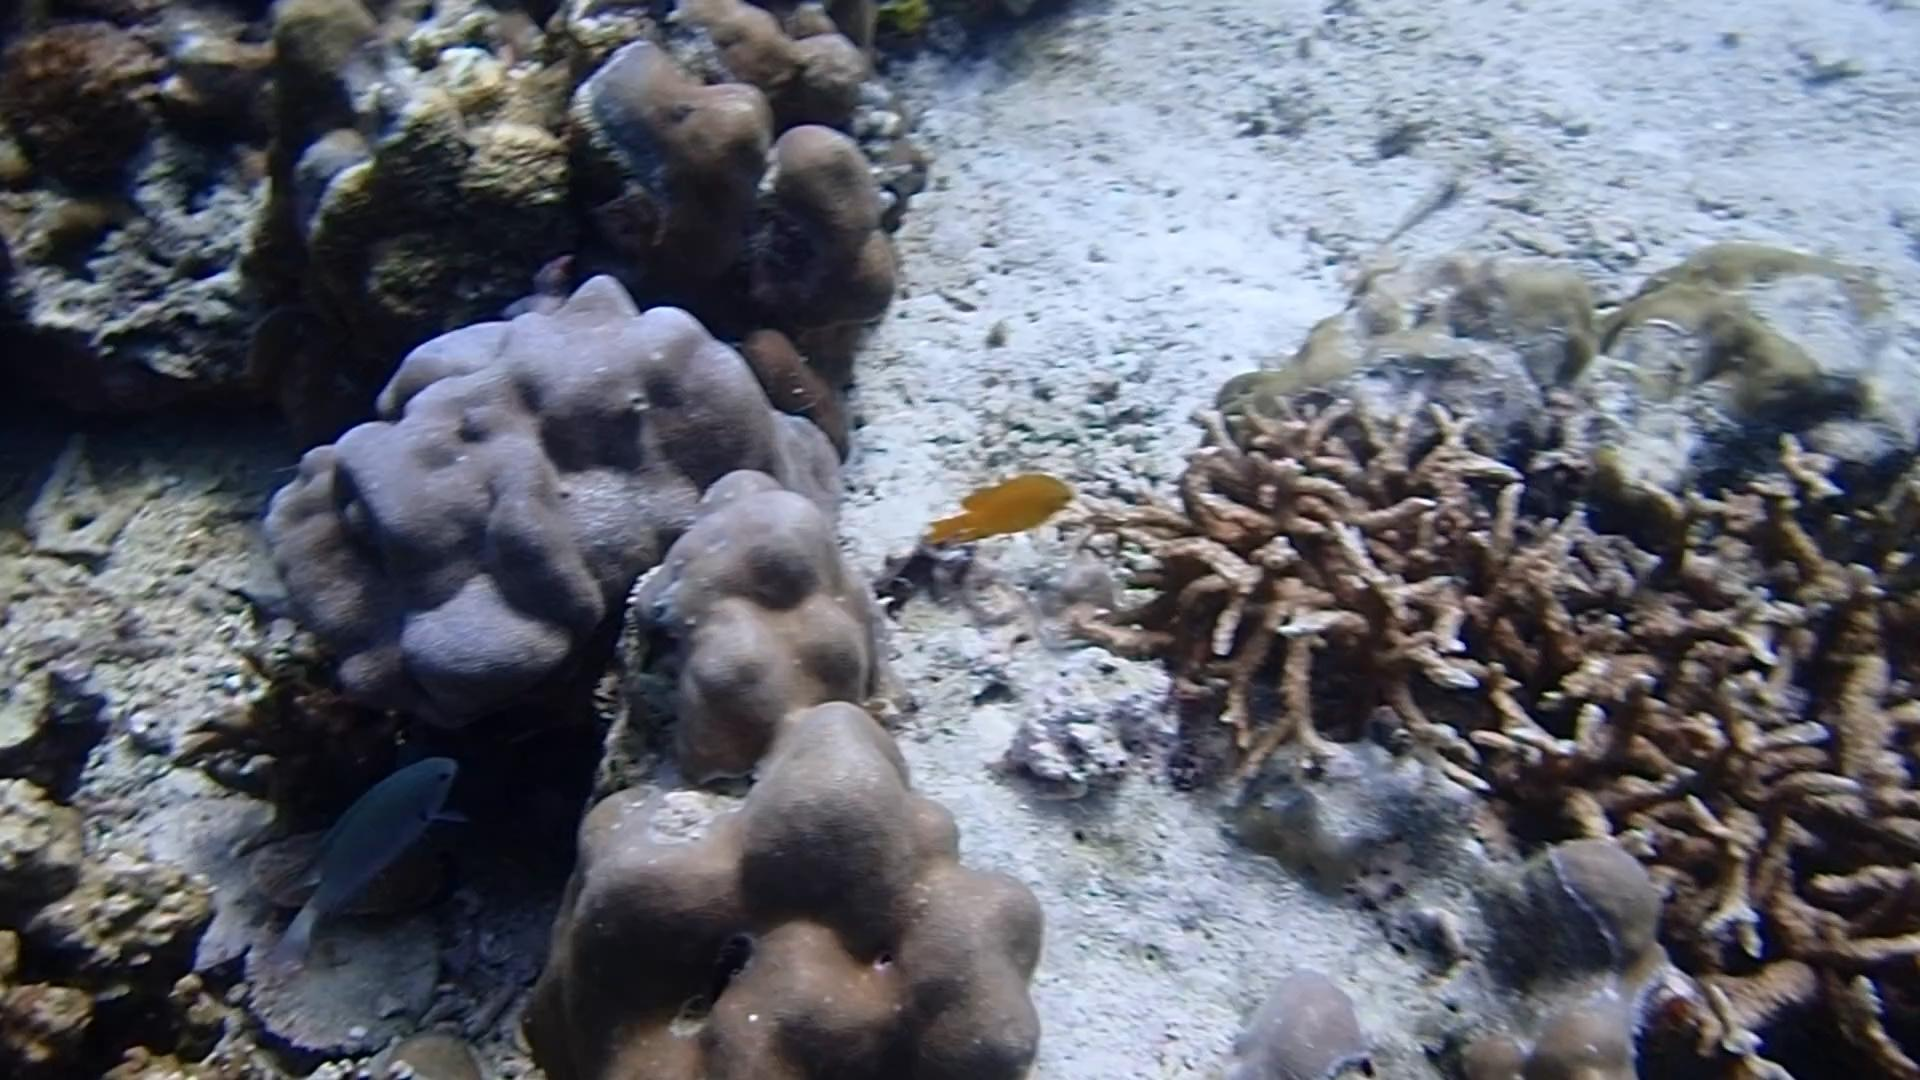Blue Fish Two: (264, 745, 471, 965)
Yellow Fish: (913, 467, 1073, 554)
